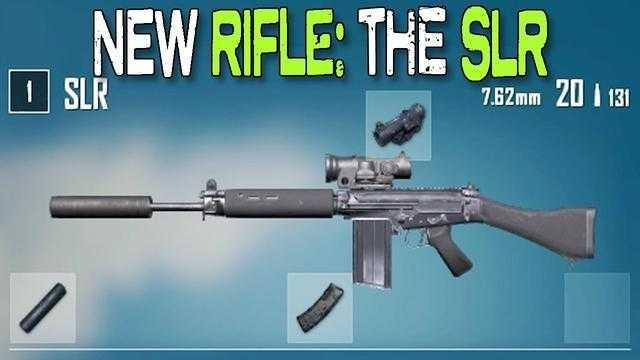heavyweapon: (36, 167, 620, 280)
